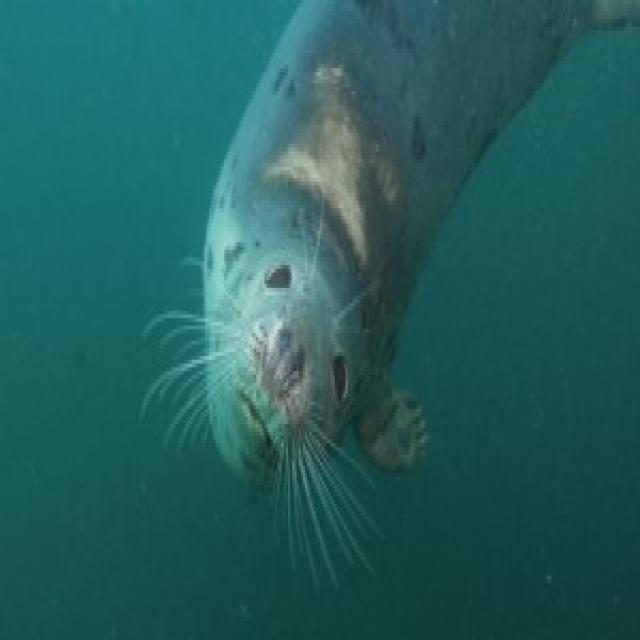Seal: (154, 0, 618, 519)
